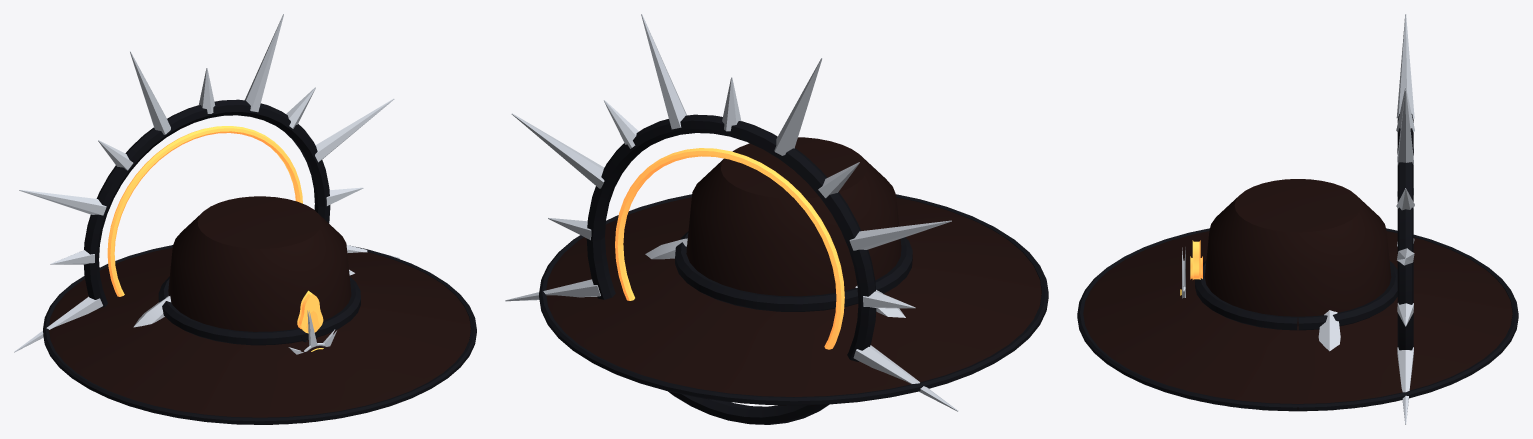
The model's file is esc_ender_of_tomes_helm.glb.
3 views of the same model, side by side, from view 1: azimuth 30°, elevation 25°; view 2: azimuth 150°, elevation 25°; view 3: azimuth 270°, elevation 25° (orthographic). The views are drawn at different scales.
Parts seen in each view (by area): view 1: esc_ender_of_tomes_helm; view 2: esc_ender_of_tomes_helm; view 3: esc_ender_of_tomes_helm.
Boxes of the visible parts, x1,y1,x2,y2 form: esc_ender_of_tomes_helm: (14,14,476,424); esc_ender_of_tomes_helm: (505,14,1048,424); esc_ender_of_tomes_helm: (1077,14,1518,424).
Size of the model in its own units: 0.7147 by 0.5806 by 0.6968.
